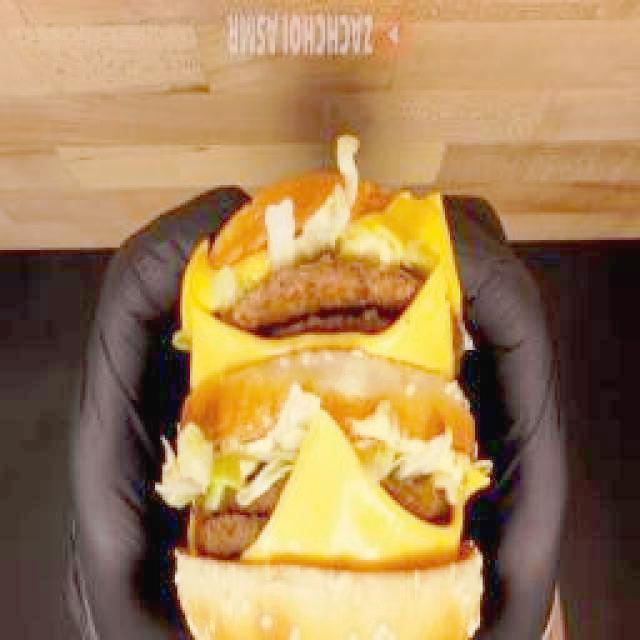burger: (161, 126, 492, 639)
